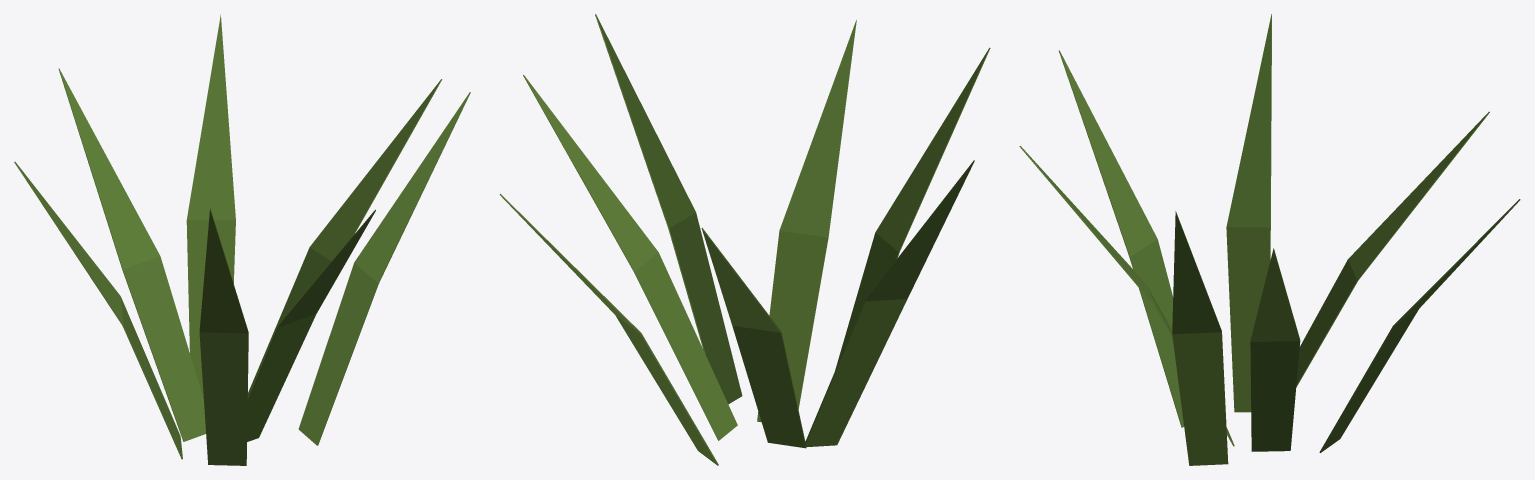
File: SM_RF_Grass_01.fbx
The picture shows the model from 3 angles, left to right: view 1: azimuth 30°, elevation 25°; view 2: azimuth 150°, elevation 25°; view 3: azimuth 270°, elevation 25°; orthographic projection. The views are drawn at different scales.
Visible parts, largest first — view 1: SM_RF_Grass_01; view 2: SM_RF_Grass_01; view 3: SM_RF_Grass_01.
Part boxes in pixels (x1,y1,x2,y2): SM_RF_Grass_01: (14, 14, 470, 465); SM_RF_Grass_01: (499, 14, 990, 465); SM_RF_Grass_01: (1019, 14, 1520, 465).
Size of the model in its own units: 60.34 by 44.23 by 60.31.
